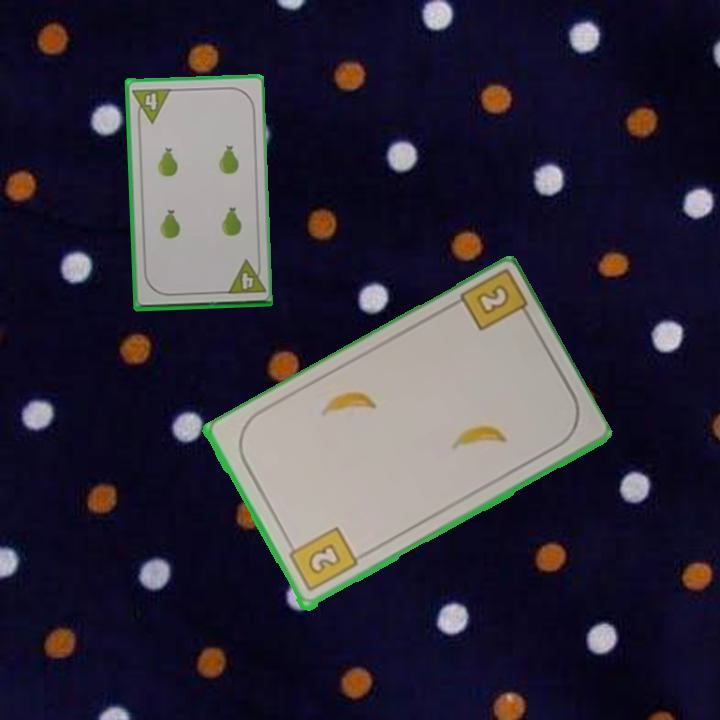2b: (283, 524, 360, 595), (454, 269, 534, 335)
4p: (129, 84, 173, 126), (223, 257, 267, 297)
